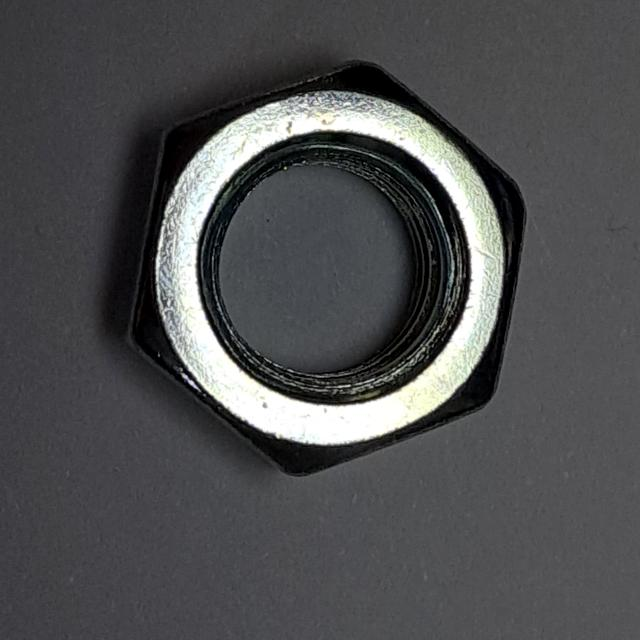Excellent: (109, 44, 550, 503)
